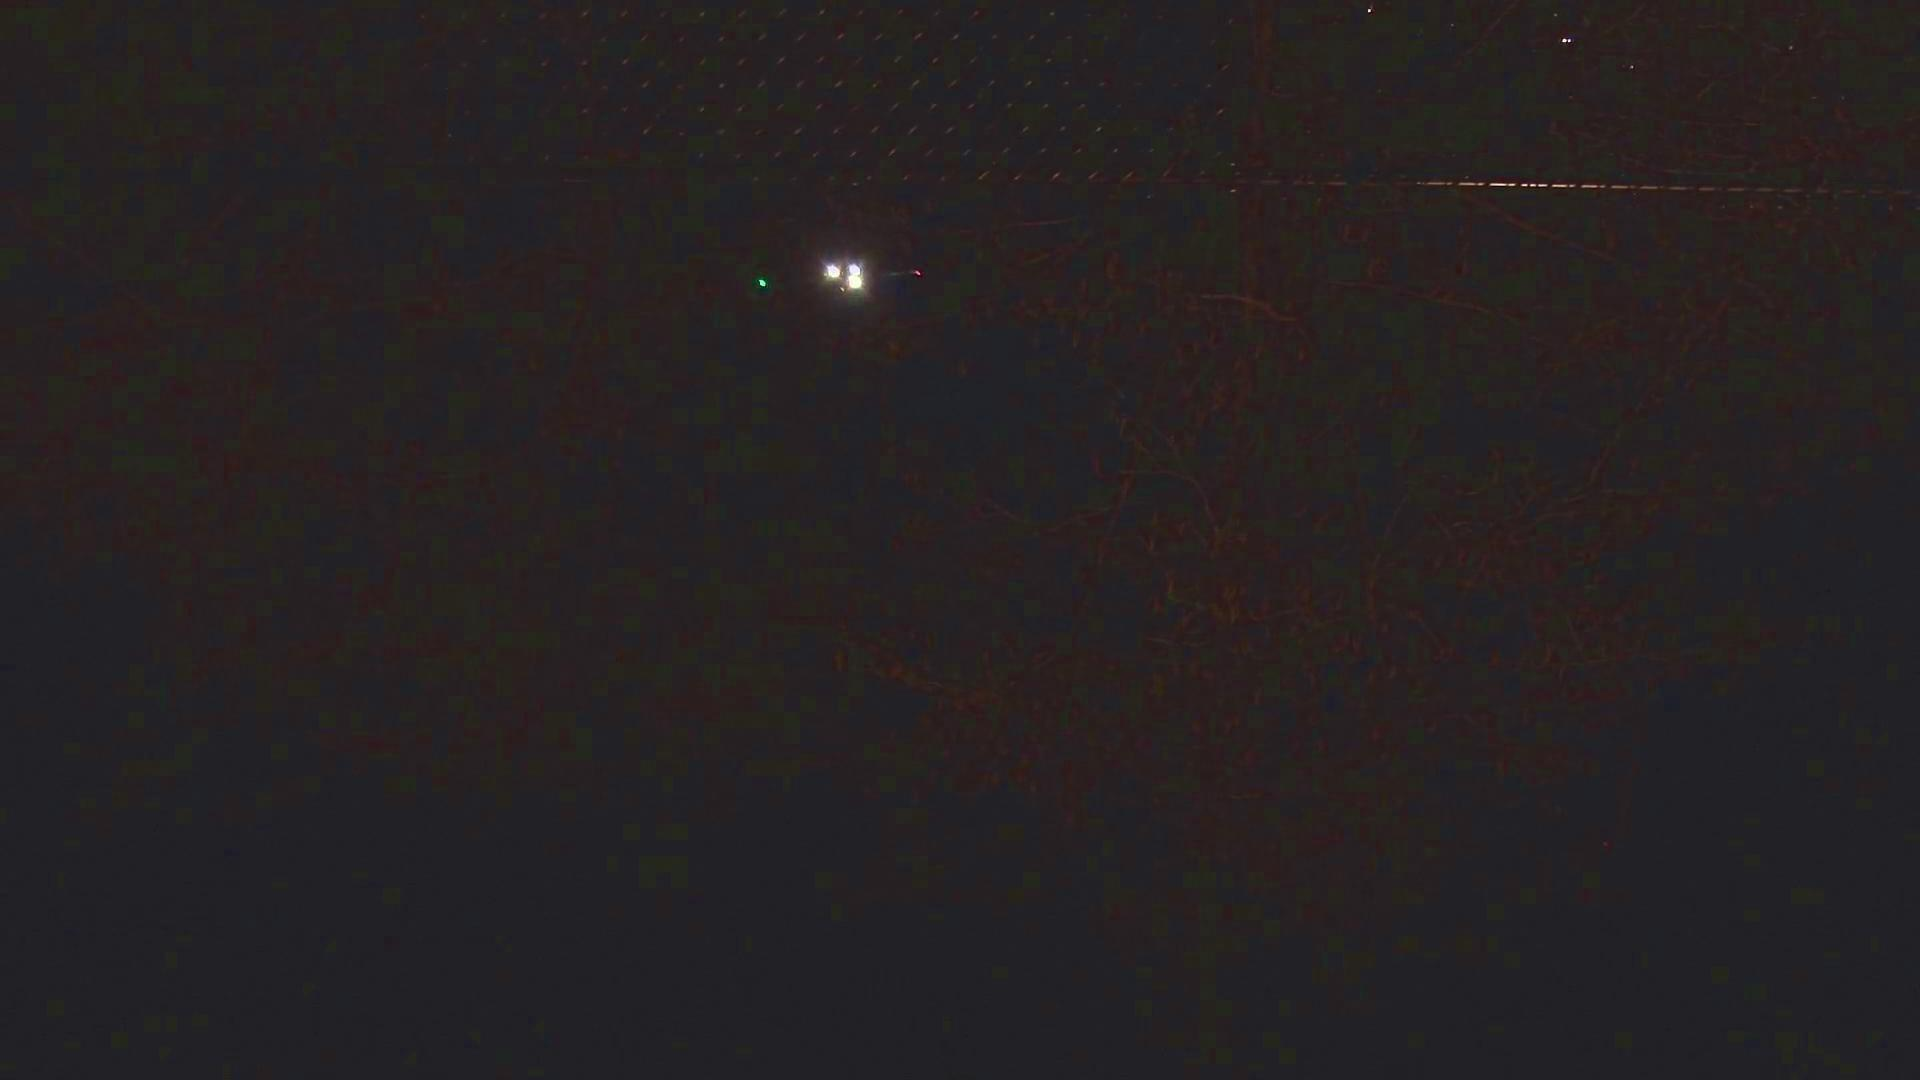Plane: (746, 247, 957, 301)
